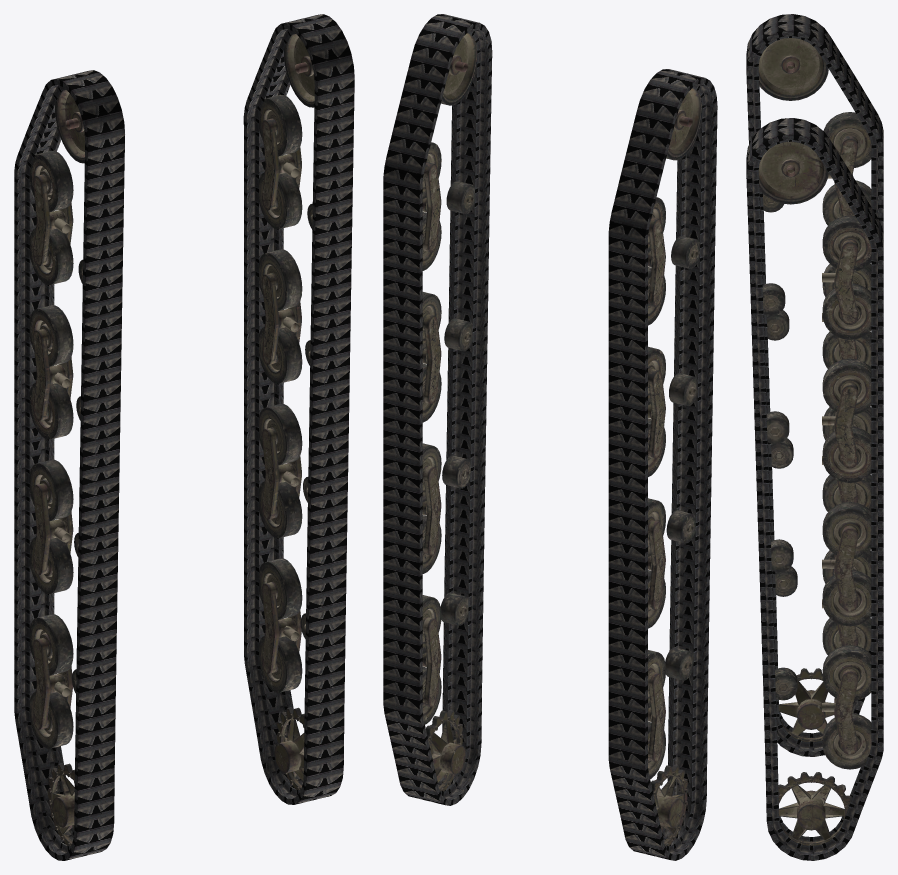
The model's file is Chassis.glb.
The picture shows the model from 3 angles, left to right: view 1: azimuth 30°, elevation 25°; view 2: azimuth 150°, elevation 25°; view 3: azimuth 270°, elevation 25°; orthographic projection. The views are drawn at different scales.
Parts seen in each view (by area): view 1: set_0_group_0, set_1_group_0, set_3_group_0, set_2_group_0; view 2: set_0_group_0, set_1_group_0, set_3_group_0, set_2_group_0; view 3: set_3_group_0, set_1_group_0, set_2_group_0, set_0_group_0.
Boxes of the visible parts, left/top/right/bottom form: set_0_group_0: left=14, top=70, right=124, bottom=860; set_1_group_0: left=243, top=14, right=354, bottom=804; set_3_group_0: left=259, top=34, right=314, bottom=789; set_2_group_0: left=29, top=90, right=85, bottom=845; set_0_group_0: left=608, top=69, right=717, bottom=860; set_1_group_0: left=383, top=14, right=492, bottom=805; set_3_group_0: left=422, top=33, right=477, bottom=791; set_2_group_0: left=648, top=88, right=702, bottom=846; set_3_group_0: left=758, top=141, right=871, bottom=845; set_1_group_0: left=746, top=118, right=883, bottom=860; set_2_group_0: left=758, top=38, right=871, bottom=741; set_0_group_0: left=746, top=14, right=883, bottom=756.
Size of the model in its own units: 2.6 by 7.3 by 1.25.
4 materials, 4 textured.
